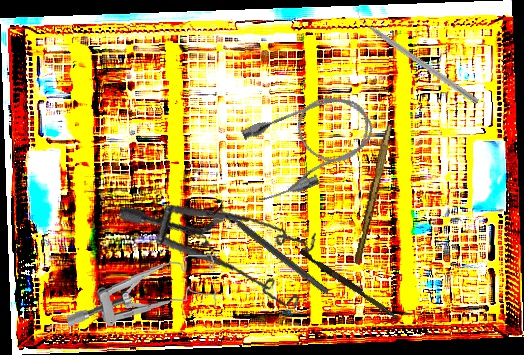Cannula: (231, 82, 386, 208)
Chopper: (349, 5, 485, 105)
Fixation Ring: (204, 196, 335, 302)
Pusher: (297, 248, 404, 322)
Scalpel Handle: (353, 123, 393, 265)
Speculum: (118, 177, 327, 334), (64, 254, 218, 328)
